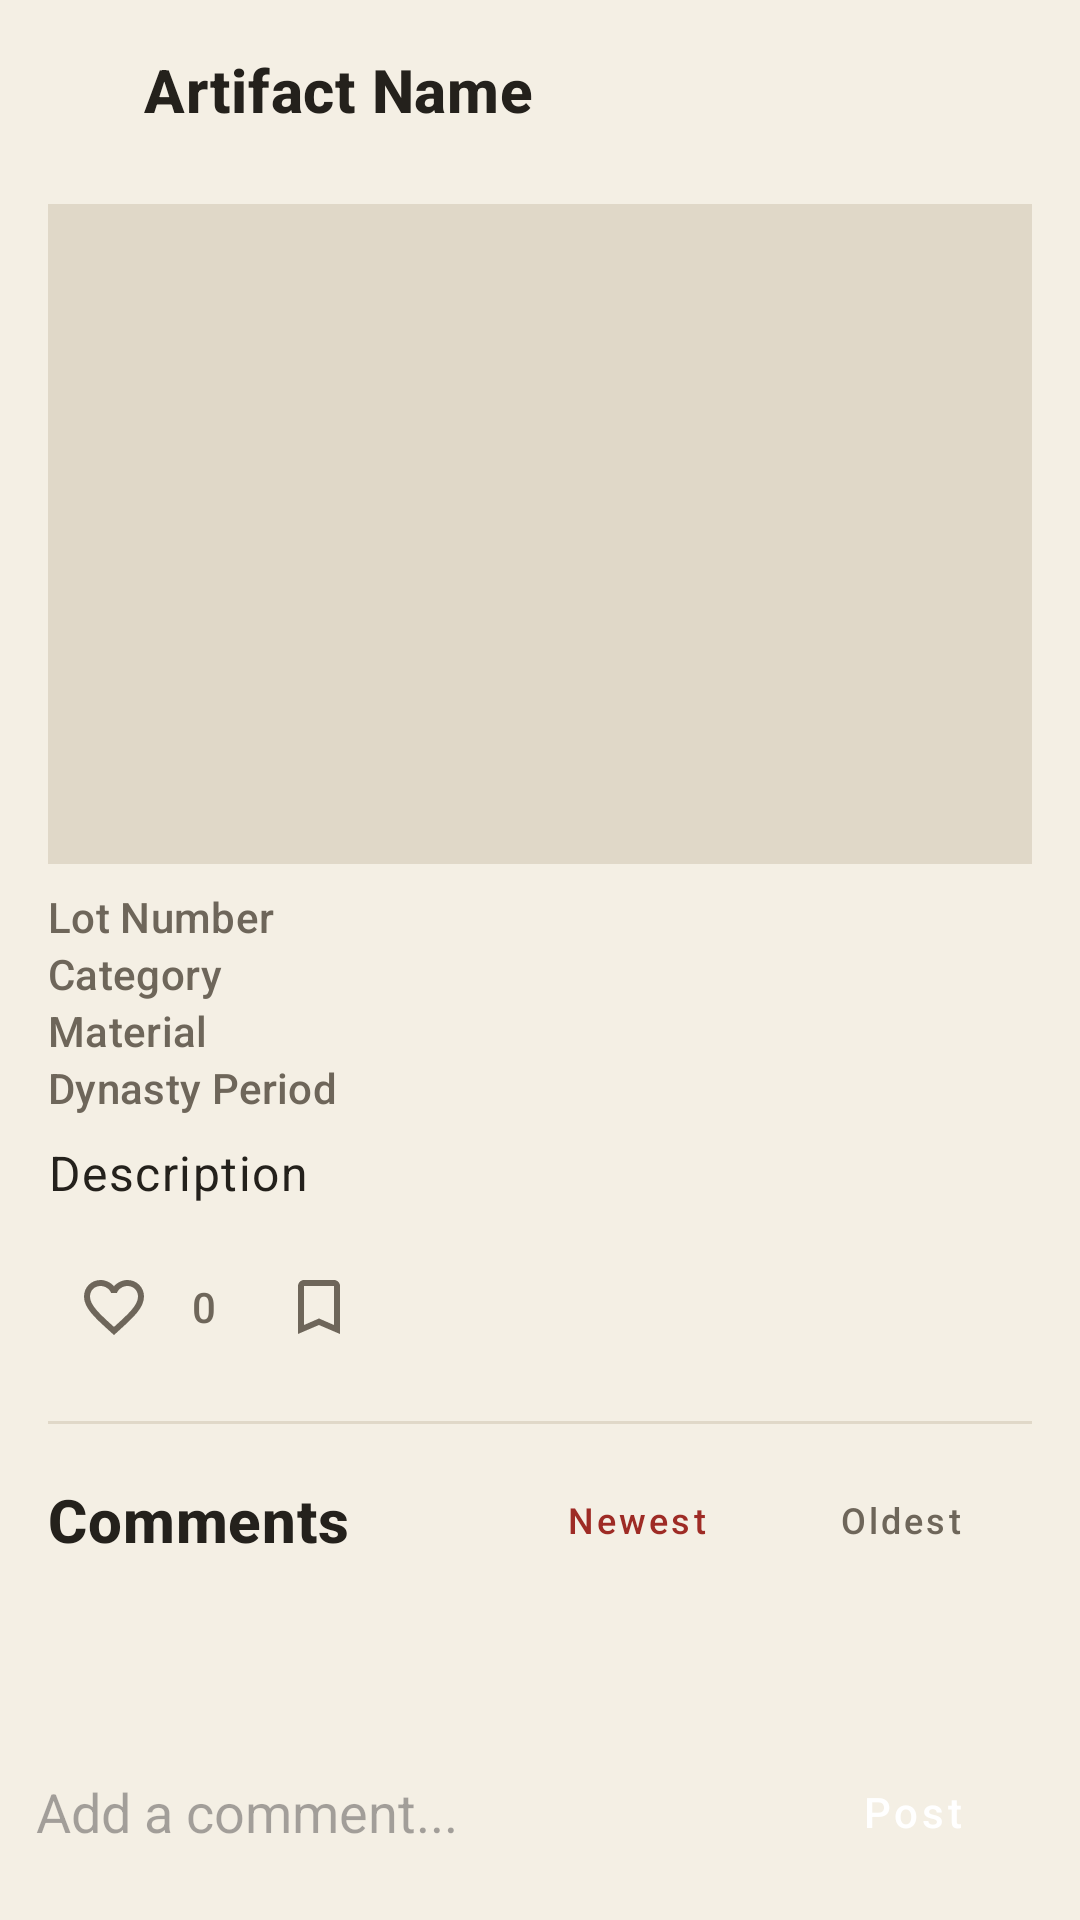

Named icons in this screenshot (1080*1920) and their bounding boxes, (x1, y1, x2, y2):
Like: (84, 1280, 144, 1335)
Save: (298, 1280, 340, 1334)
